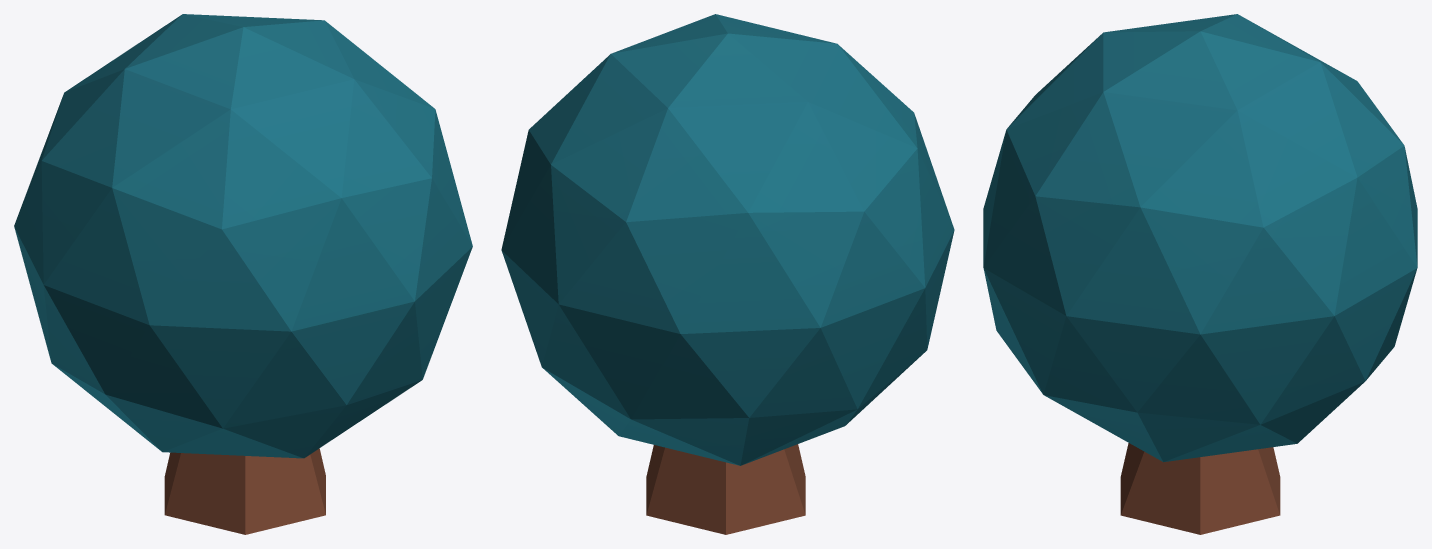
The model's file is Bush_2_gradient_blue_vc.fbx.
3 renders of one model, left to right at view 1: azimuth 30°, elevation 25°; view 2: azimuth 150°, elevation 25°; view 3: azimuth 270°, elevation 25°, orthographic.
Visible parts, largest first — view 1: Bush_2_gradient_blue_vc; view 2: Bush_2_gradient_blue_vc; view 3: Bush_2_gradient_blue_vc.
Part boxes in pixels (bbox=[...]): Bush_2_gradient_blue_vc: bbox=[14, 14, 472, 534]; Bush_2_gradient_blue_vc: bbox=[501, 14, 954, 534]; Bush_2_gradient_blue_vc: bbox=[983, 14, 1417, 534].
Bounding box in the file's own units: 35.19 × 39.46 × 33.47.
